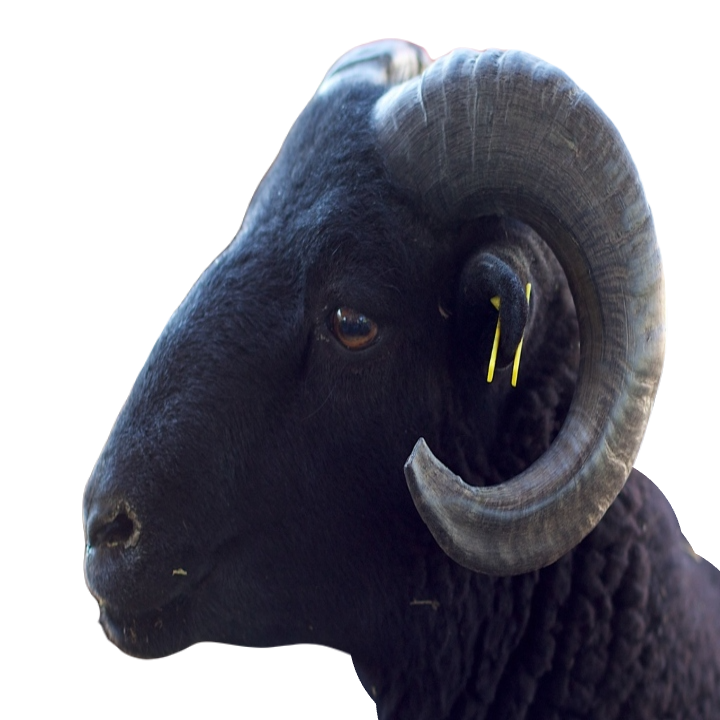Sheep: (69, 32, 719, 719)
